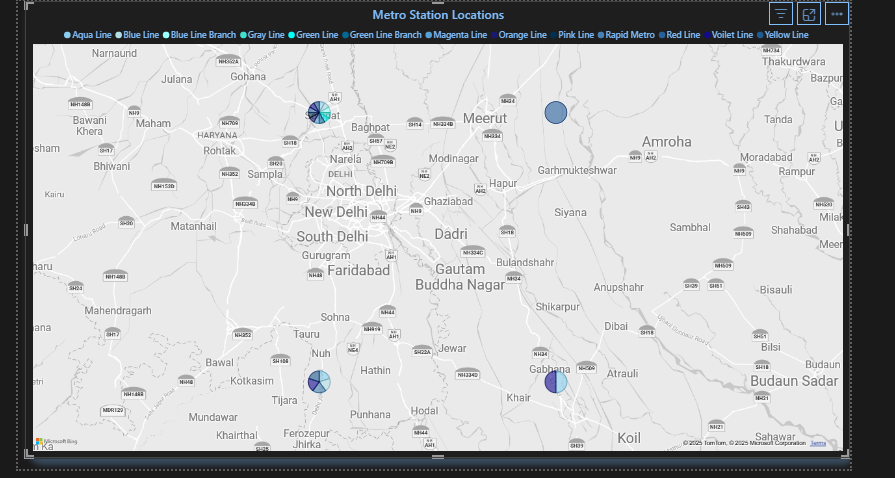

What the dashboard file says about the page in this screenshot:
{"tool":"powerbi","page":{"name":"Page 2","canvas":[1280,720],"ordinal":1},"visuals":[{"type":"map","title":"Metro Station Locations","fields":{"Series":["Delhi_Metro.Line"],"Y":["Delhi_Metro.Latitude"],"X":["Delhi_Metro.Longitude"]},"box":[10.3,0,1269.6,703.8],"z":0}]}

Visuals, with their boxes on the page's 1280x720 design canvas (x1, y1, x2, y2). These are canvas units, not pixel positions in the 895x478 screenshot, which may show the page scaled, cropped or inside an application window:
"Metro Station Locations" map: (10,0,1280,704)
